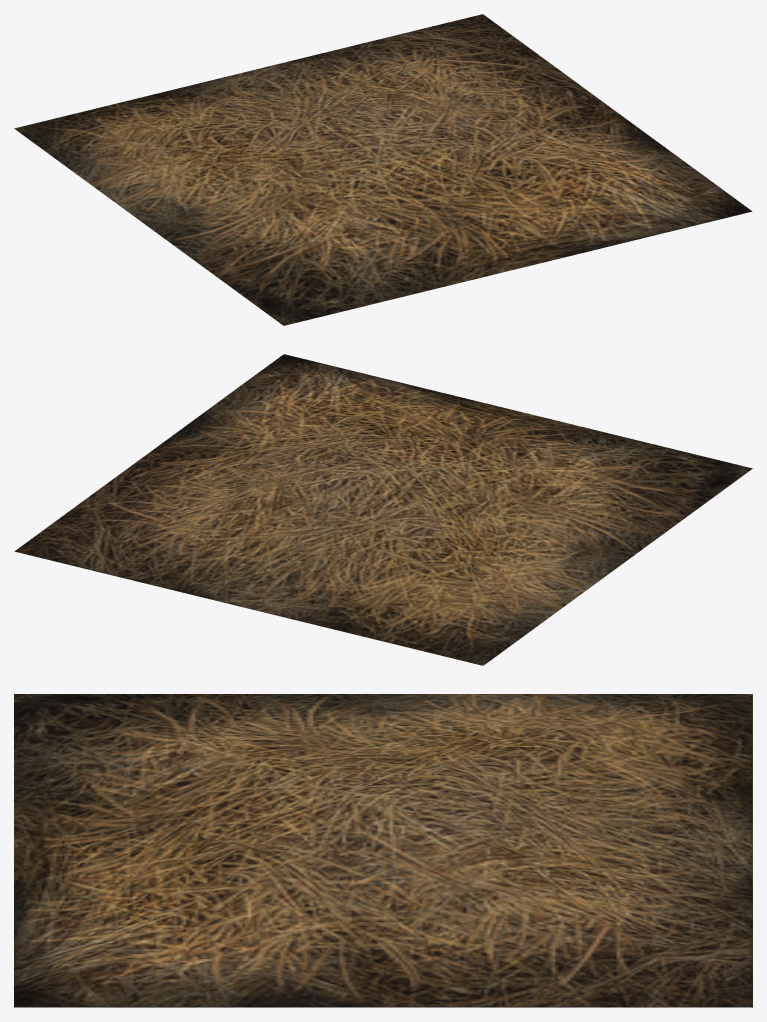
File: KQZD_cao_1.FBX
3 views of the same model, one above another, from view 1: azimuth 30°, elevation 25°; view 2: azimuth 150°, elevation 25°; view 3: azimuth 270°, elevation 25° (orthographic). The views are drawn at different scales.
Visible parts, largest first — view 1: KQZD_cao_1; view 2: KQZD_cao_1; view 3: KQZD_cao_1.
Boxes of the visible parts, <box> form: KQZD_cao_1: <box>14,14,752,325</box>; KQZD_cao_1: <box>14,354,752,665</box>; KQZD_cao_1: <box>14,694,752,1007</box>.
Size of the model in its own units: 330 by 328 by 25.88.
